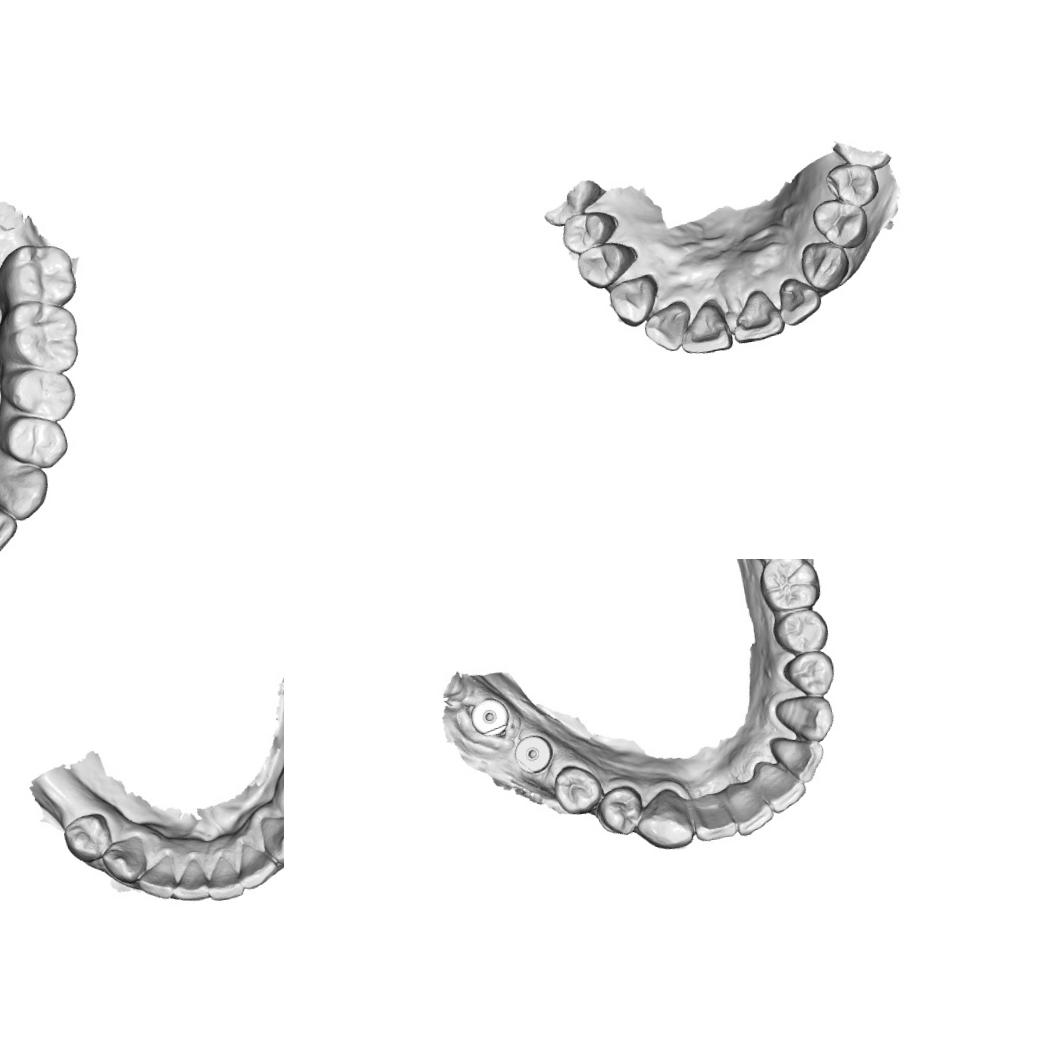canine: (631, 786, 696, 854), (0, 452, 53, 525), (772, 691, 837, 747), (606, 270, 664, 332), (798, 237, 852, 296), (98, 834, 150, 888), (257, 809, 284, 867)
implant: (511, 732, 556, 776), (468, 694, 512, 738)
incisor: (727, 285, 787, 346), (675, 296, 734, 358), (640, 299, 695, 354), (774, 273, 824, 327), (689, 790, 738, 843), (235, 838, 280, 891), (134, 854, 178, 903), (203, 852, 245, 903), (733, 795, 777, 839), (787, 738, 828, 785), (170, 856, 210, 904), (764, 774, 810, 814), (0, 493, 22, 559)
molar: (0, 295, 85, 382), (0, 237, 80, 314), (755, 559, 823, 614)
premolar: (0, 361, 80, 430), (0, 407, 71, 475), (574, 237, 642, 292), (810, 194, 871, 254), (822, 158, 882, 213), (550, 761, 606, 818), (558, 207, 622, 256), (60, 810, 115, 867), (780, 647, 838, 701), (770, 606, 831, 656), (593, 783, 646, 839)
